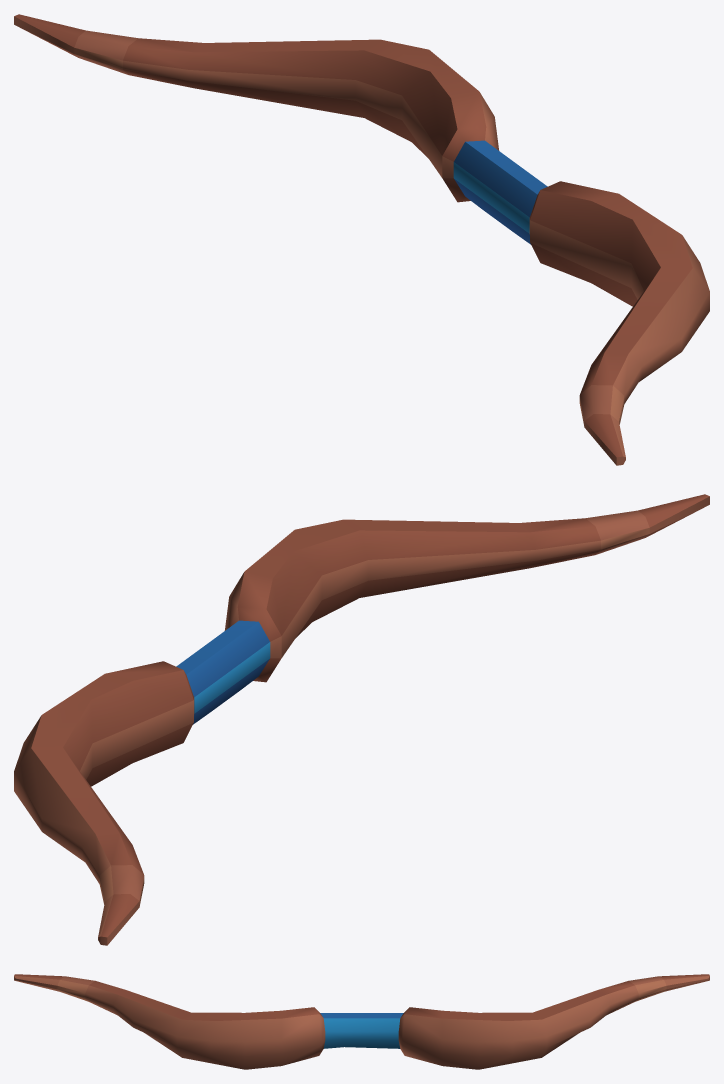
Rendered from bow.glb.
3 views of the same model, one above another, from view 1: azimuth 30°, elevation 25°; view 2: azimuth 150°, elevation 25°; view 3: azimuth 270°, elevation 25° (orthographic). The views are drawn at different scales.
Bounding box in the file's own units: 0.4904 × 0.1549 × 1.98.
Materials: 1 (1 with a texture image).
